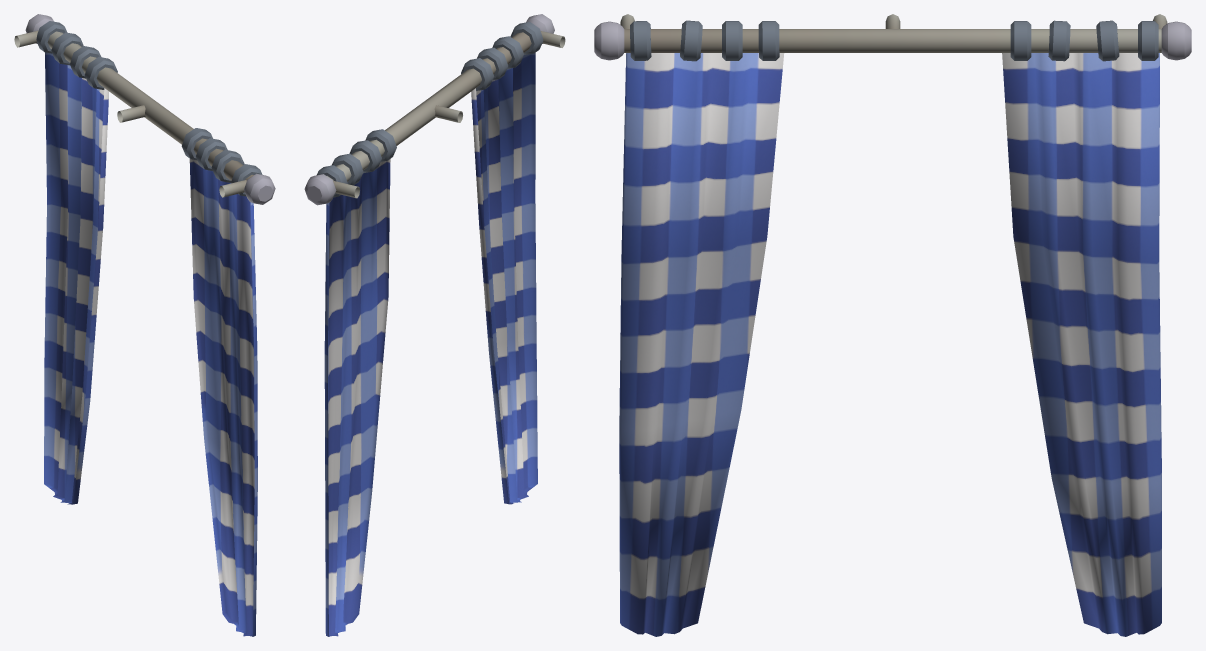
File: Curtains_Long_1_B_A.glb
3 renders of one model, left to right at view 1: azimuth 30°, elevation 25°; view 2: azimuth 150°, elevation 25°; view 3: azimuth 270°, elevation 25°, orthographic. The views are drawn at different scales.
Parts seen in each view (by area): view 1: Curtains_Long_1_B_A; view 2: Curtains_Long_1_B_A; view 3: Curtains_Long_1_B_A.
Boxes of the visible parts, left/top/right/bottom form: Curtains_Long_1_B_A: left=14, top=14, right=275, bottom=636; Curtains_Long_1_B_A: left=304, top=14, right=565, bottom=636; Curtains_Long_1_B_A: left=594, top=14, right=1191, bottom=636.
Bounding box in the file's own units: 0.2268 × 2.28 × 2.02.
Materials: 2 (2 with a texture image).
